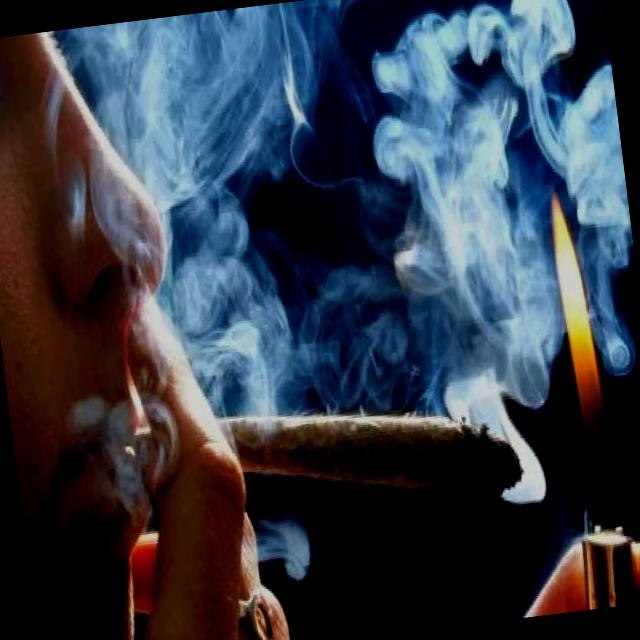cigarette: (180, 377, 540, 517)
